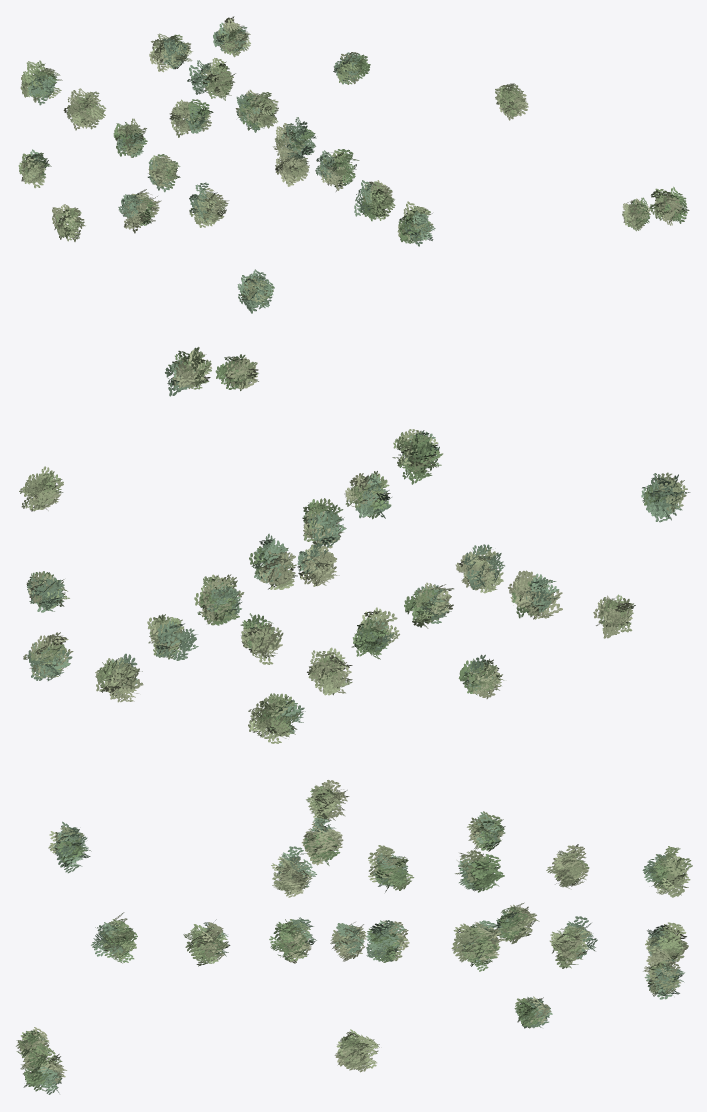
File: campus-tree-3_-3-far.glb
The picture shows the model from 3 angles, top to bottom: view 1: azimuth 30°, elevation 25°; view 2: azimuth 150°, elevation 25°; view 3: azimuth 270°, elevation 25°; orthographic projection. The views are drawn at different scales.
Parts seen in each view (by area): view 1: Campus leaf canopy; view 2: Campus leaf canopy; view 3: Campus leaf canopy.
Part boxes in pixels (box(x1,y1,x2,y2)): Campus leaf canopy: box(18, 16, 689, 313); Campus leaf canopy: box(19, 347, 690, 743); Campus leaf canopy: box(16, 780, 692, 1094).
Size of the model in its own units: 80.62 by 8.12 by 82.76.
1 material, 1 textured.
